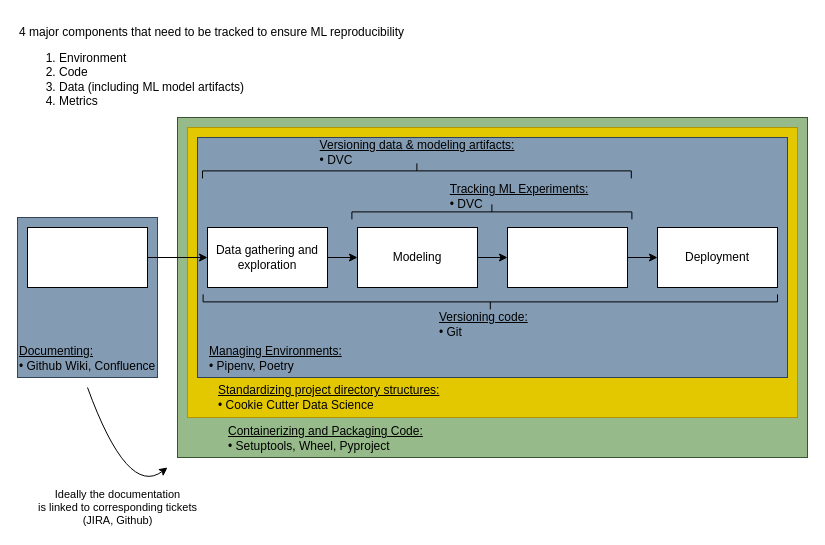
Some shapes in this 825 by 545 pixel diagram are drawn without their labels. The box of each missing label's shape, as (x1, y1, x2, y2) in pixels:
Business understanding: (26, 226, 148, 288)
Evaluation: (506, 226, 628, 288)
